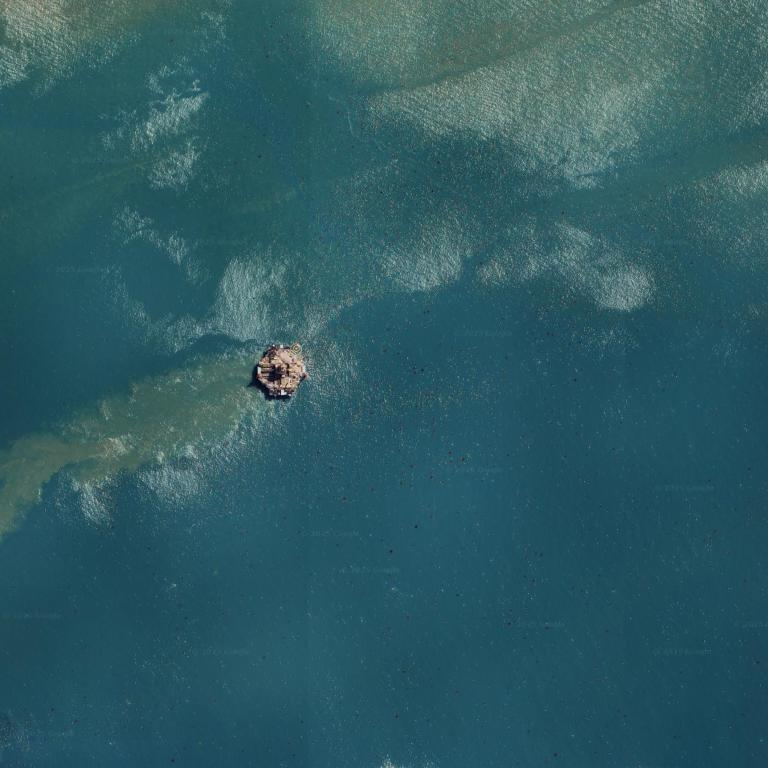platform: (252, 341, 309, 402)
